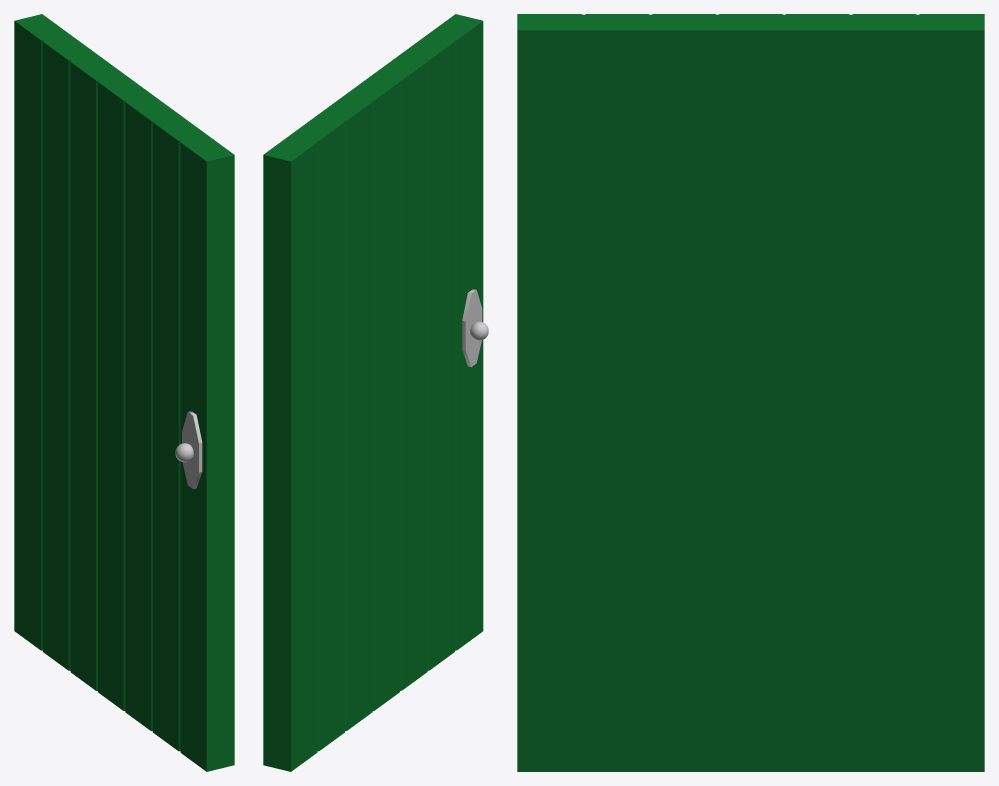
The model's file is SM_Door.fbx.
3 renders of one model, left to right at view 1: azimuth 30°, elevation 25°; view 2: azimuth 150°, elevation 25°; view 3: azimuth 270°, elevation 25°, orthographic. The views are drawn at different scales.
Visible parts, largest first — view 1: pCube15; view 2: pCube15; view 3: pCube15.
Part boxes in pixels (<box>): pCube15: <box>14,14,234,771</box>; pCube15: <box>263,14,488,771</box>; pCube15: <box>517,14,984,771</box>.
Size of the model in its own units: 16.2 by 210 by 120.
